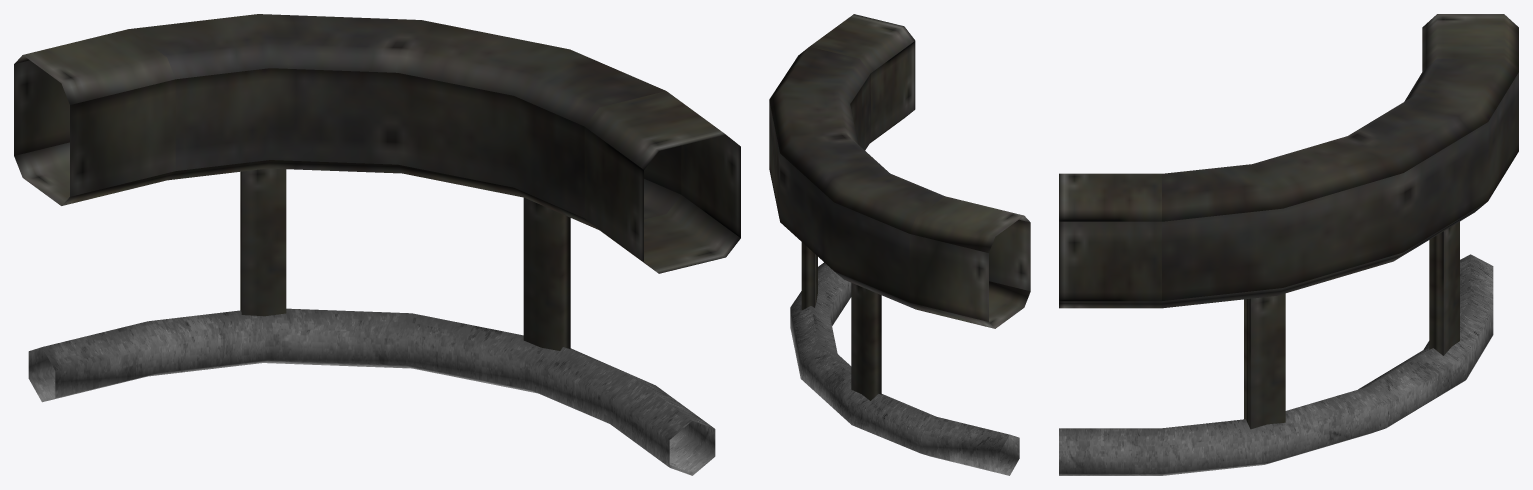
File: railing_ceiling_bend_short.dae
3 renders of one model, left to right at view 1: azimuth 30°, elevation 25°; view 2: azimuth 150°, elevation 25°; view 3: azimuth 270°, elevation 25°, orthographic. The views are drawn at different scales.
Visible parts, largest first — view 1: polySurface654, polySurface644; view 2: polySurface654, polySurface644; view 3: polySurface654, polySurface644.
Boxes of the visible parts, x1,y1,x2,y2 form: polySurface654: (14,14,740,350); polySurface644: (28,308,715,475); polySurface654: (769,14,1030,400); polySurface644: (790,262,1019,475); polySurface654: (1059,14,1518,429); polySurface644: (1059,254,1493,475).
Bounding box in the file's own units: 1.12 × 0.772 × 1.12.
